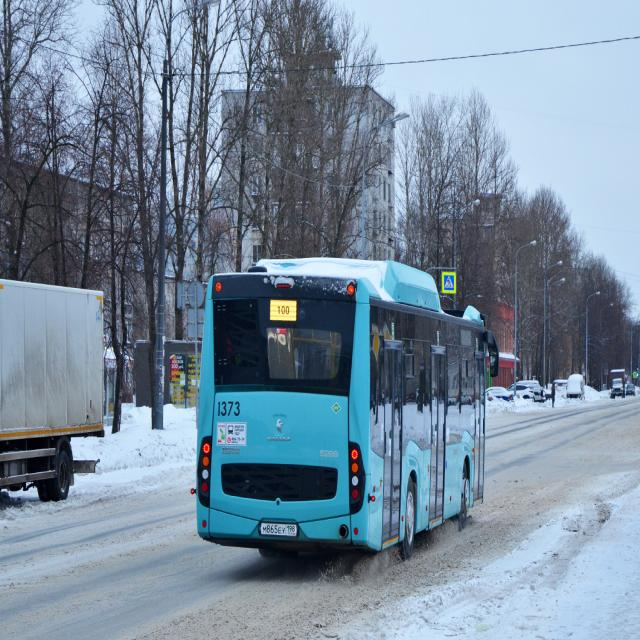number-of-bus: (275, 304, 293, 319)
